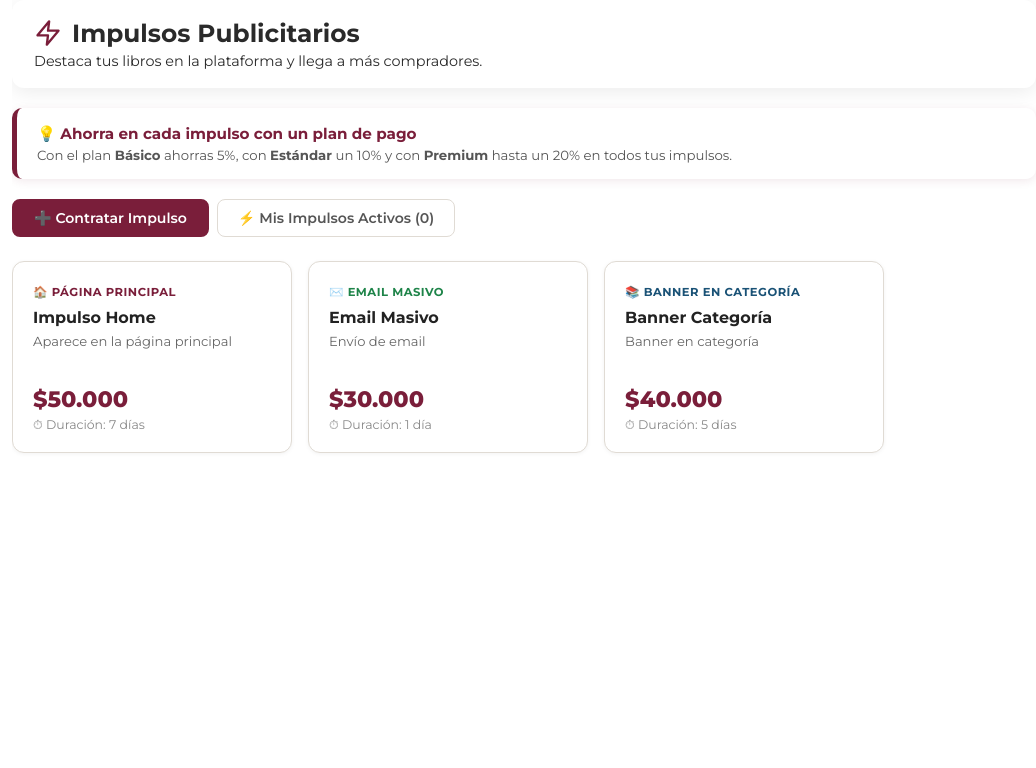
Test: SeccionImpulsos — tab Contratar › contracts successfully and switches to activos tab
This screenshot has width=1036, height=768.
Expected: the heading "Email Masivo" is shown, x1=329 y1=308 x2=439 y2=327
Click the button "Email Masivo" at [386, 292], box x1=308 y1=261 x2=588 y2=453
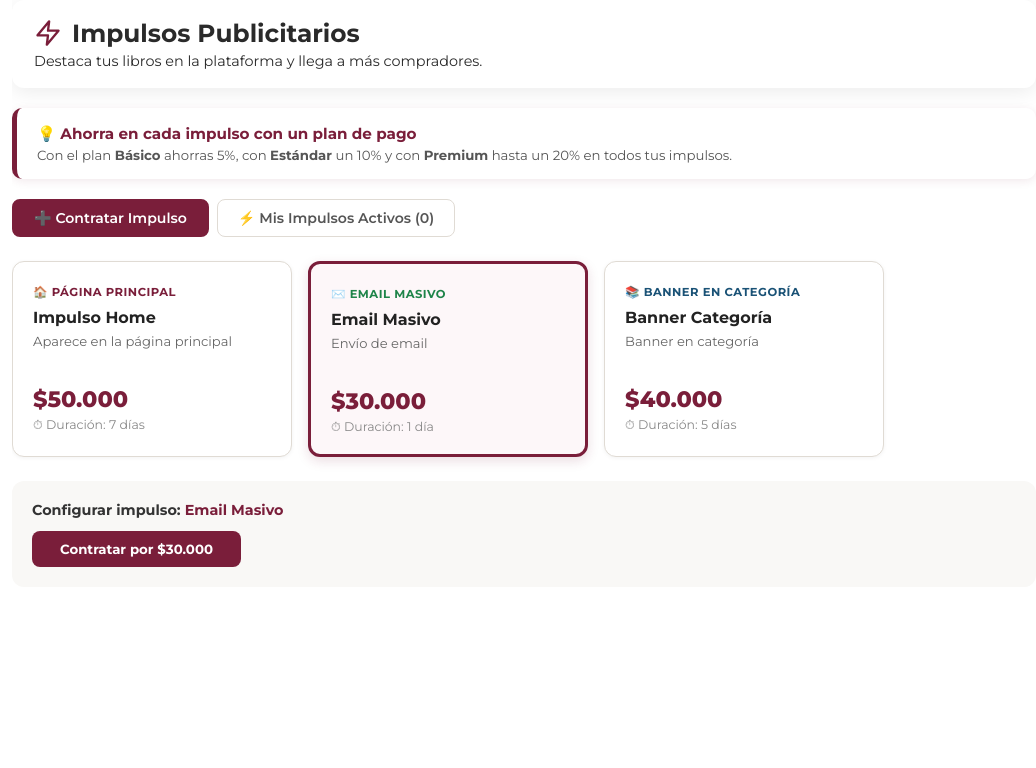
Click the button "Contratar por $30.000" at [136, 549], box x1=32 y1=531 x2=241 y2=567
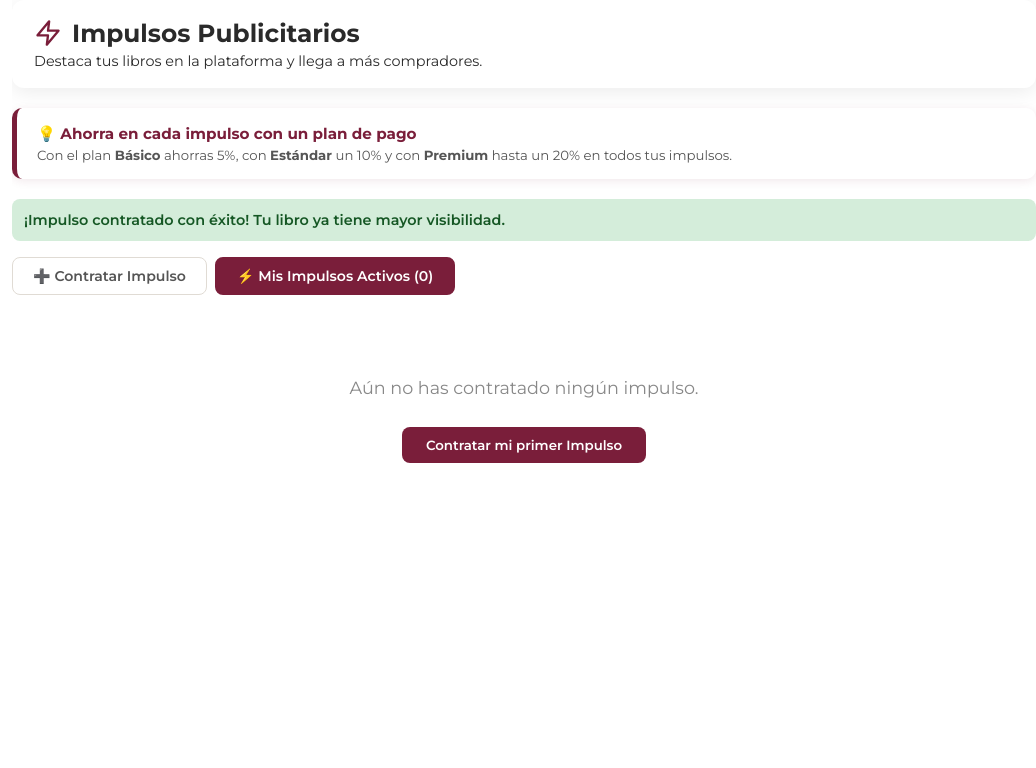
Result: the text "contratado con éxito" is shown at x1=24 y1=211 x2=505 y2=229
